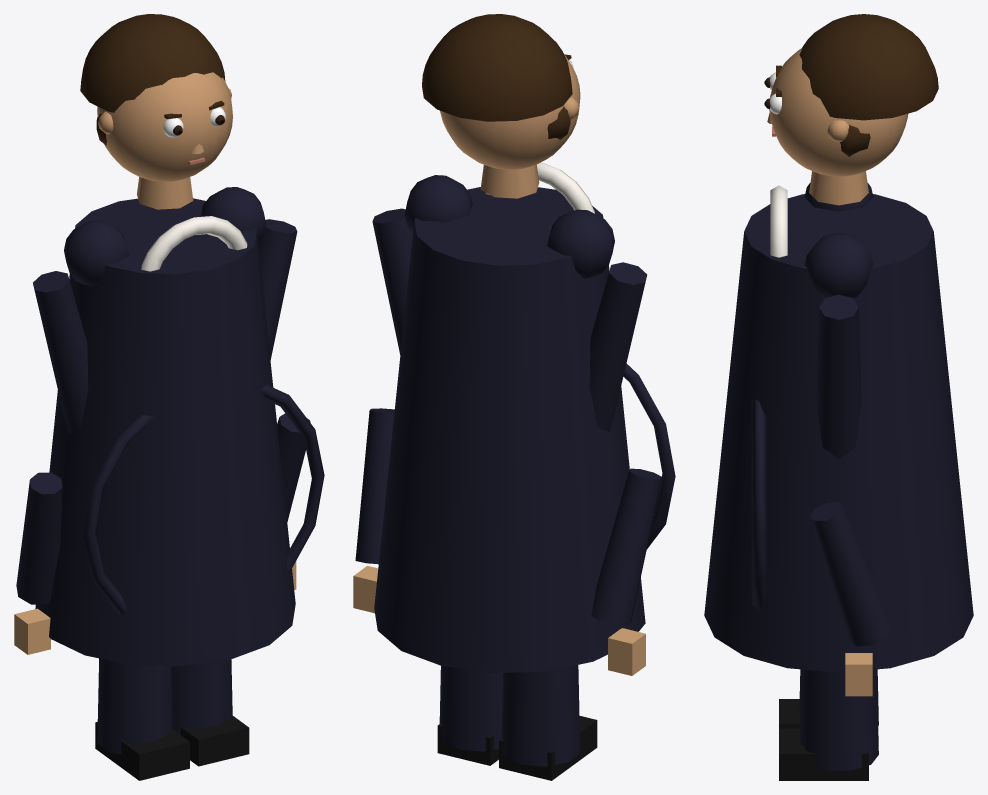
File: vocal.glb
3 renders of one model, left to right at view 1: azimuth 30°, elevation 25°; view 2: azimuth 150°, elevation 25°; view 3: azimuth 270°, elevation 25°, orthographic. The views are drawn at different scales.
Visible parts, largest first — view 1: VOCAL; view 2: VOCAL; view 3: VOCAL.
Part boxes in pixels (x1,y1,x2,y2): VOCAL: [14, 14, 324, 780]; VOCAL: [353, 14, 675, 780]; VOCAL: [704, 14, 973, 780].
Bounding box in the file's own units: 0.6596 × 1.62 × 0.54.
